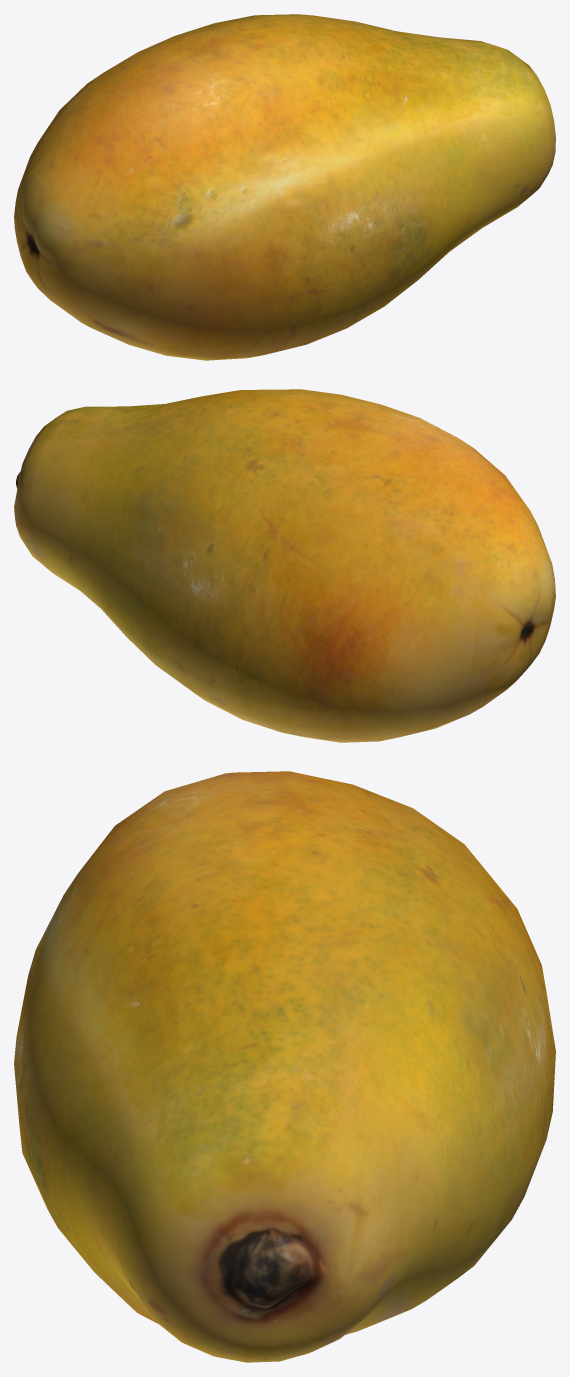
Rendered from Papaya.fbx.
3 views of the same model, one above another, from view 1: azimuth 30°, elevation 25°; view 2: azimuth 150°, elevation 25°; view 3: azimuth 270°, elevation 25° (orthographic). The views are drawn at different scales.
Parts seen in each view (by area): view 1: Papaya2; view 2: Papaya2; view 3: Papaya2.
Part boxes in pixels (<box>): Papaya2: <box>14,14,555,360</box>; Papaya2: <box>14,389,555,742</box>; Papaya2: <box>14,771,555,1362</box>.
Bounding box in the file's own units: 18.86 × 10.72 × 10.84.
